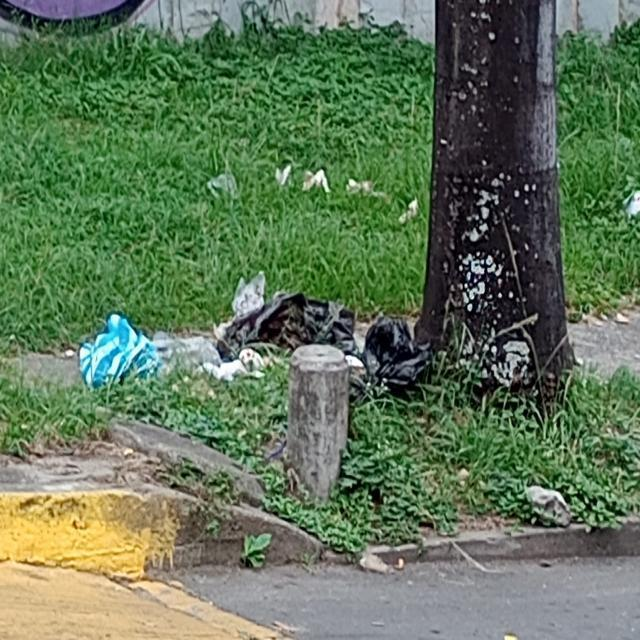Trashbag: (222, 288, 361, 358), (369, 317, 418, 382)
